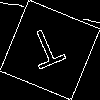T: (25, 25, 71, 79)
